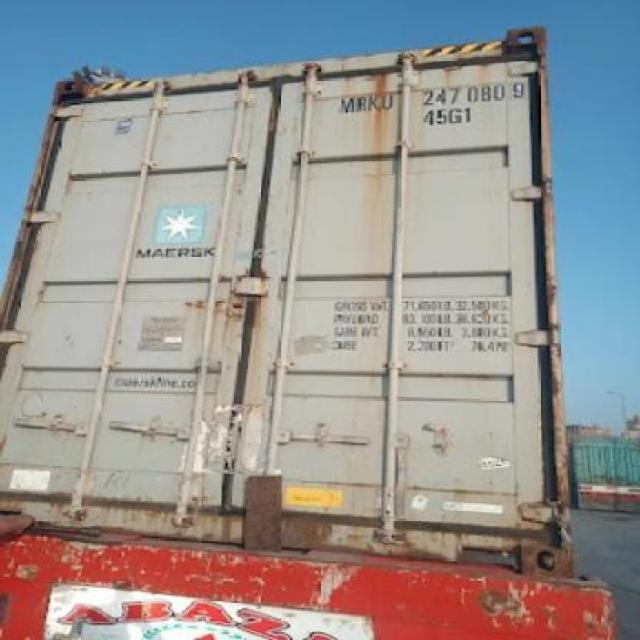ISO: (422, 106, 473, 126)
container_number: (338, 77, 528, 112)
